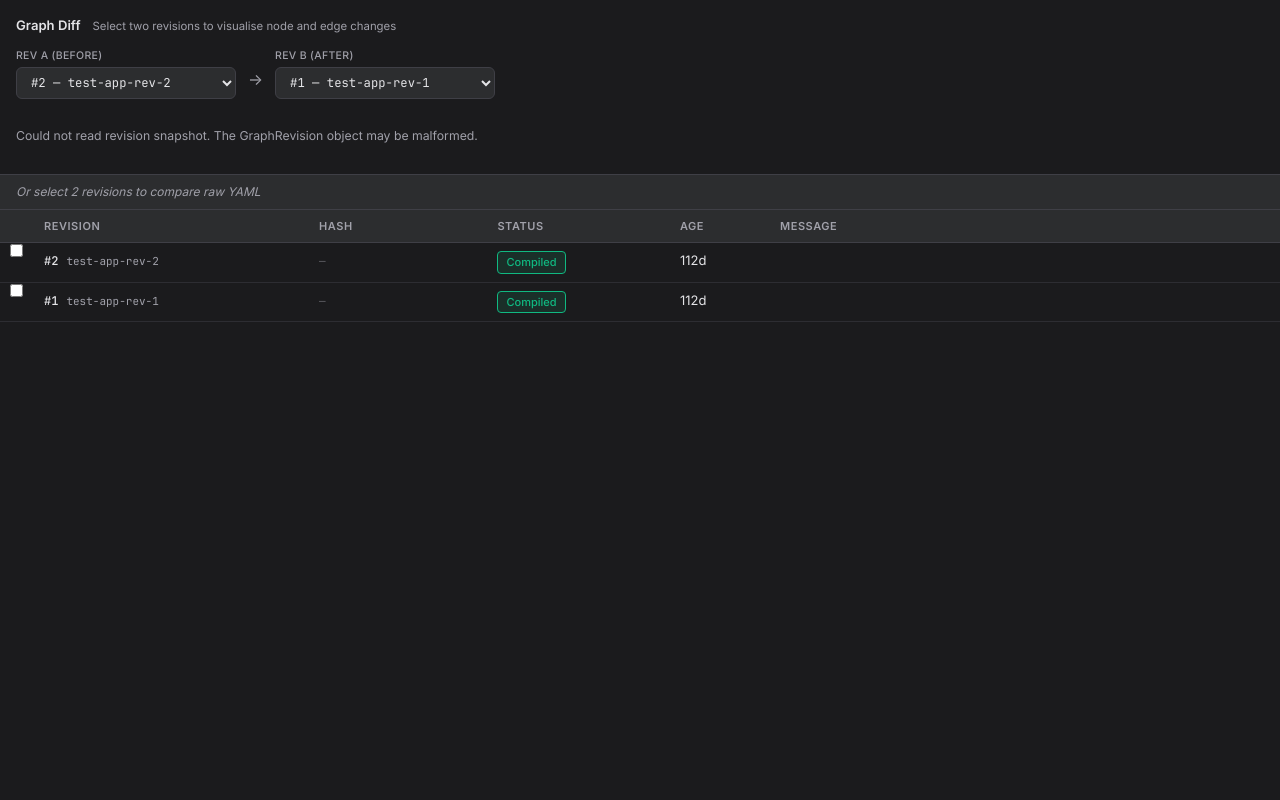
Test: RevisionYamlDiff navigate-by-change (spec issue-680) › O1: shows nav bar when revisions differ
Expected: the table with test id "revisions-table" is shown, [0,210,1279,322]
Click the checkbox named "Select revision test-app-rev-2 for comparison" at coordinates (16, 251), box [10,244,22,257]
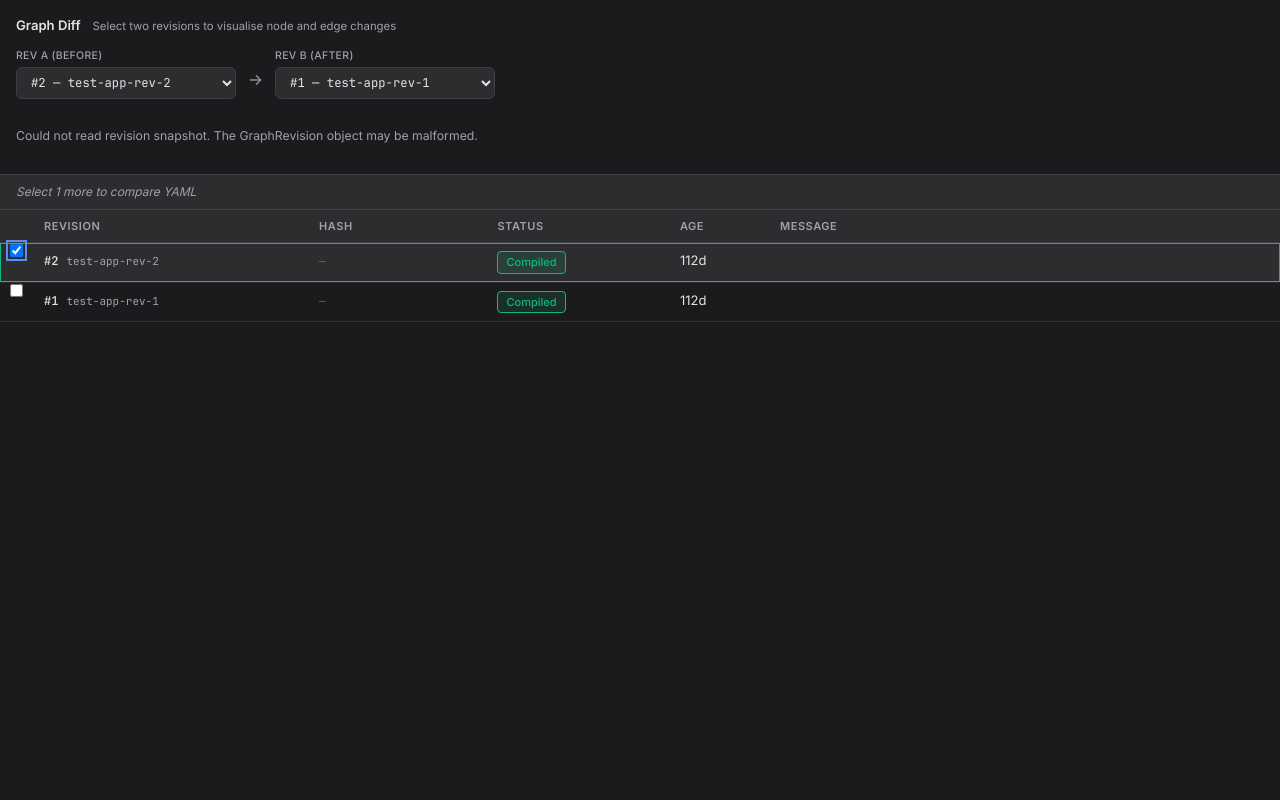
Click the checkbox named "Select revision test-app-rev-1 for comparison" at coordinates (16, 290), box [10,284,22,297]
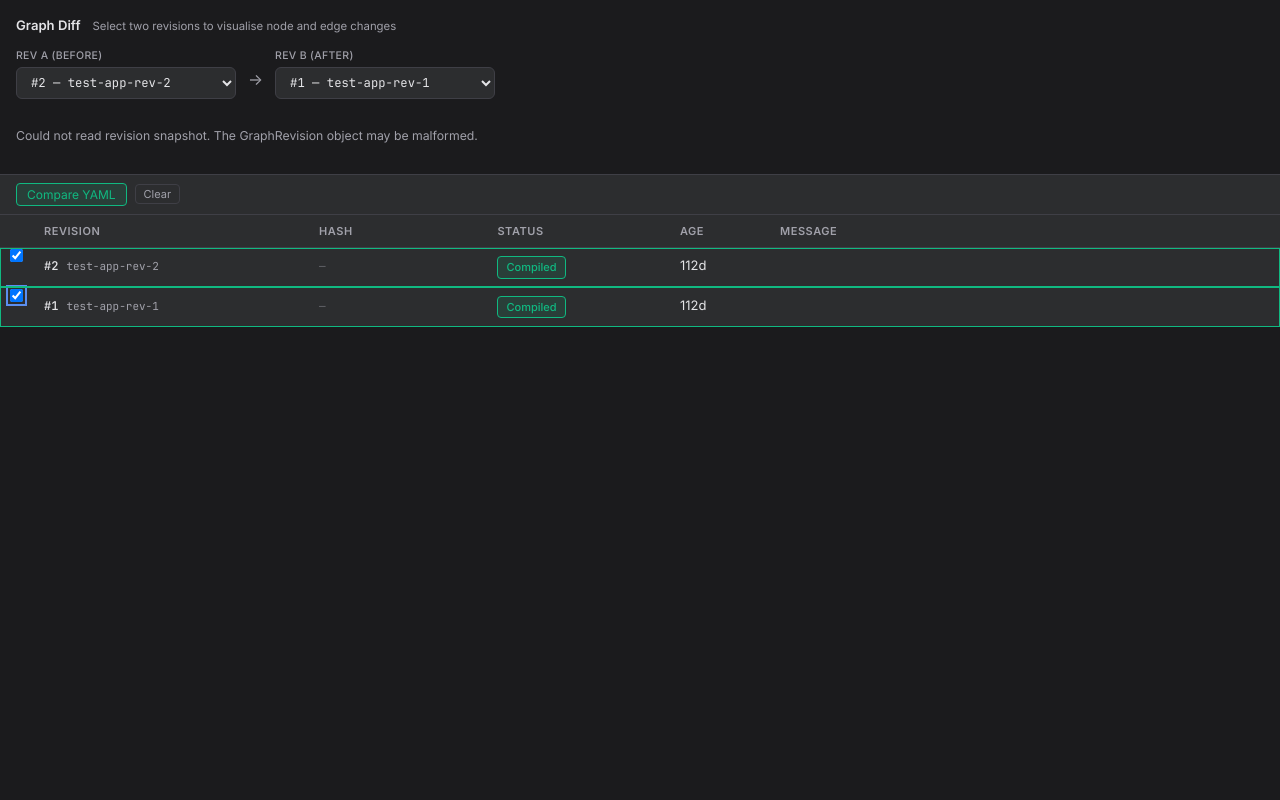
Click the button with test id "revisions-compare-btn" at coordinates (71, 194), box [16,183,126,206]
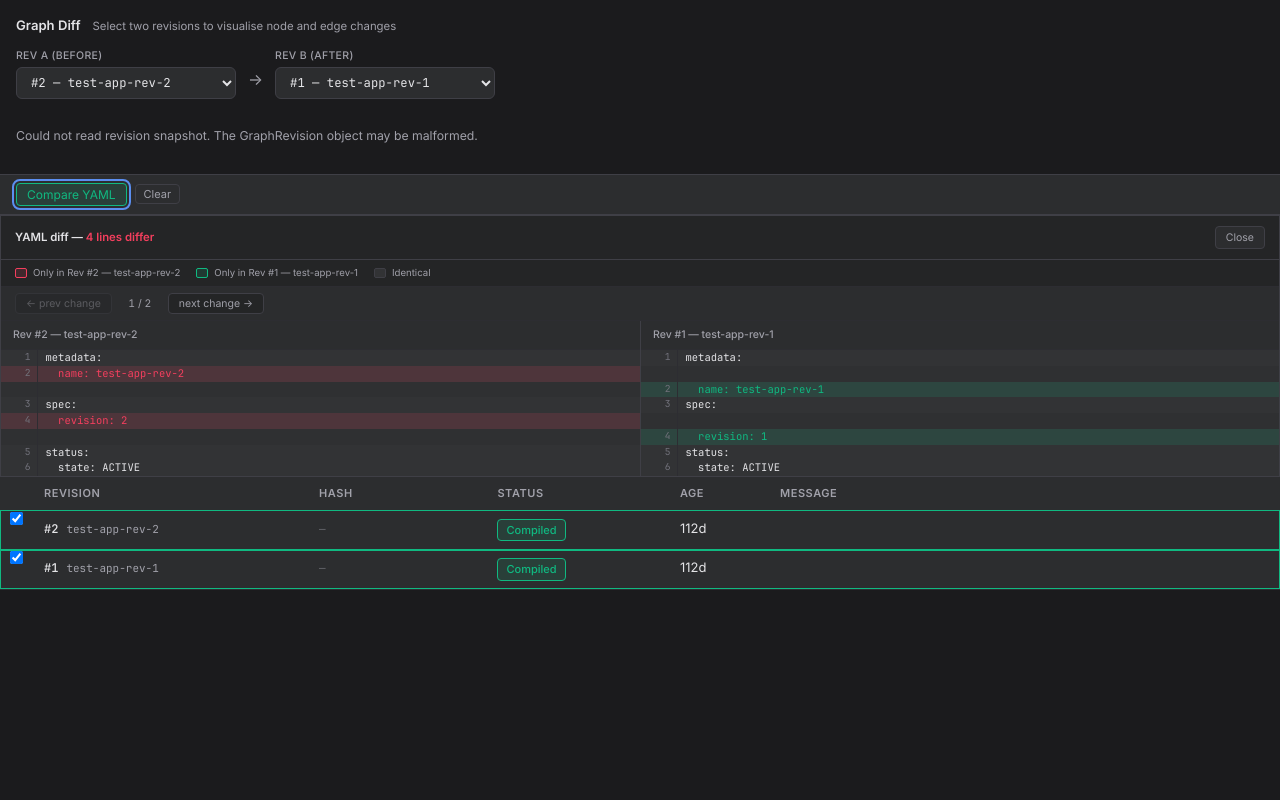
Expected: the element with test id "revisions-diff-panel" is shown, [0,215,1279,477]
Expected: the element with test id "yaml-diff-nav" is shown, [1,287,1279,321]
